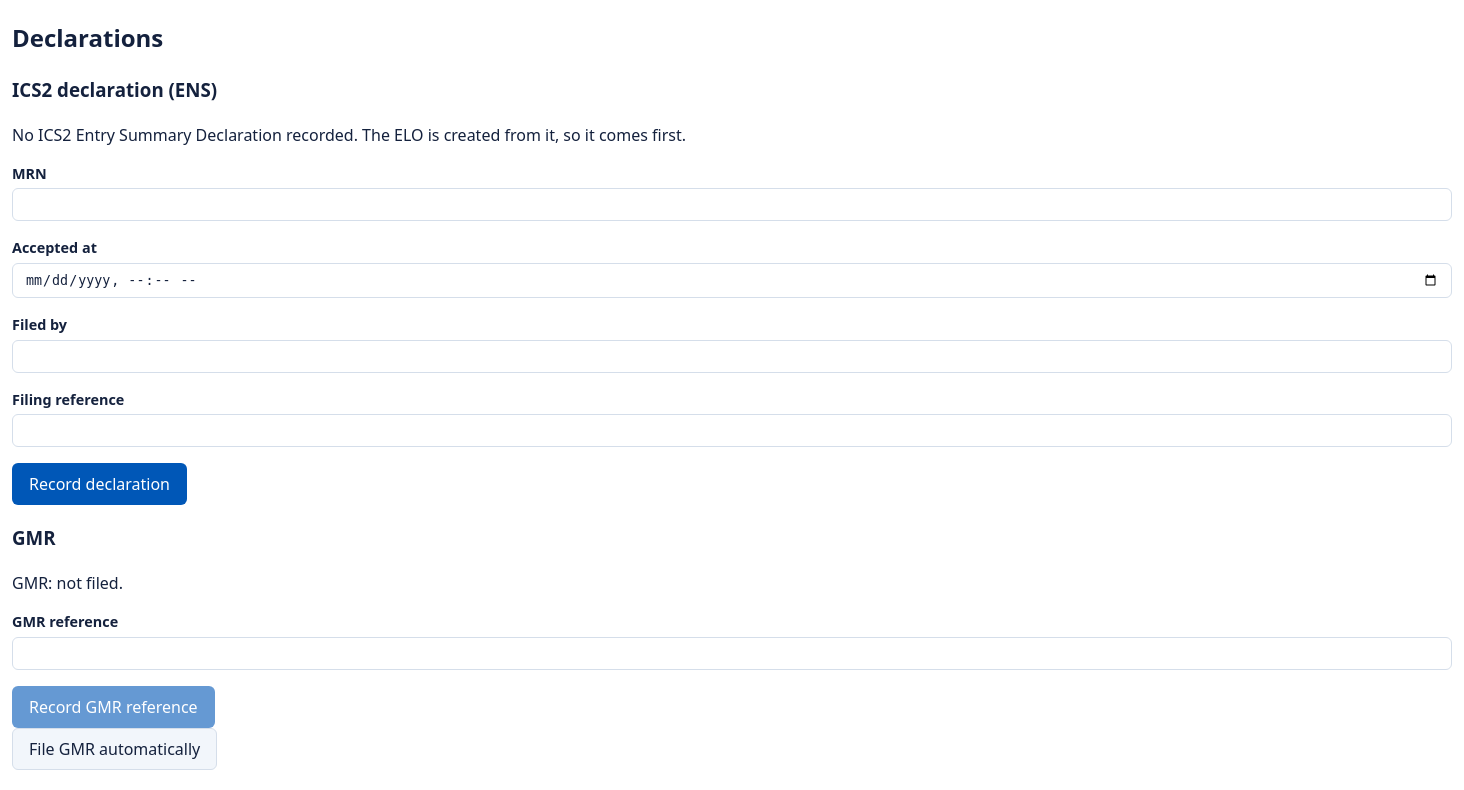
Test: a recorded ENS can be withdrawn, and the form returns
This screenshot has width=1464, height=790.
Step 1. Type "26FR17551780961AT5" into the field labelled "MRN" → (732, 205), box [12, 188, 1452, 221]
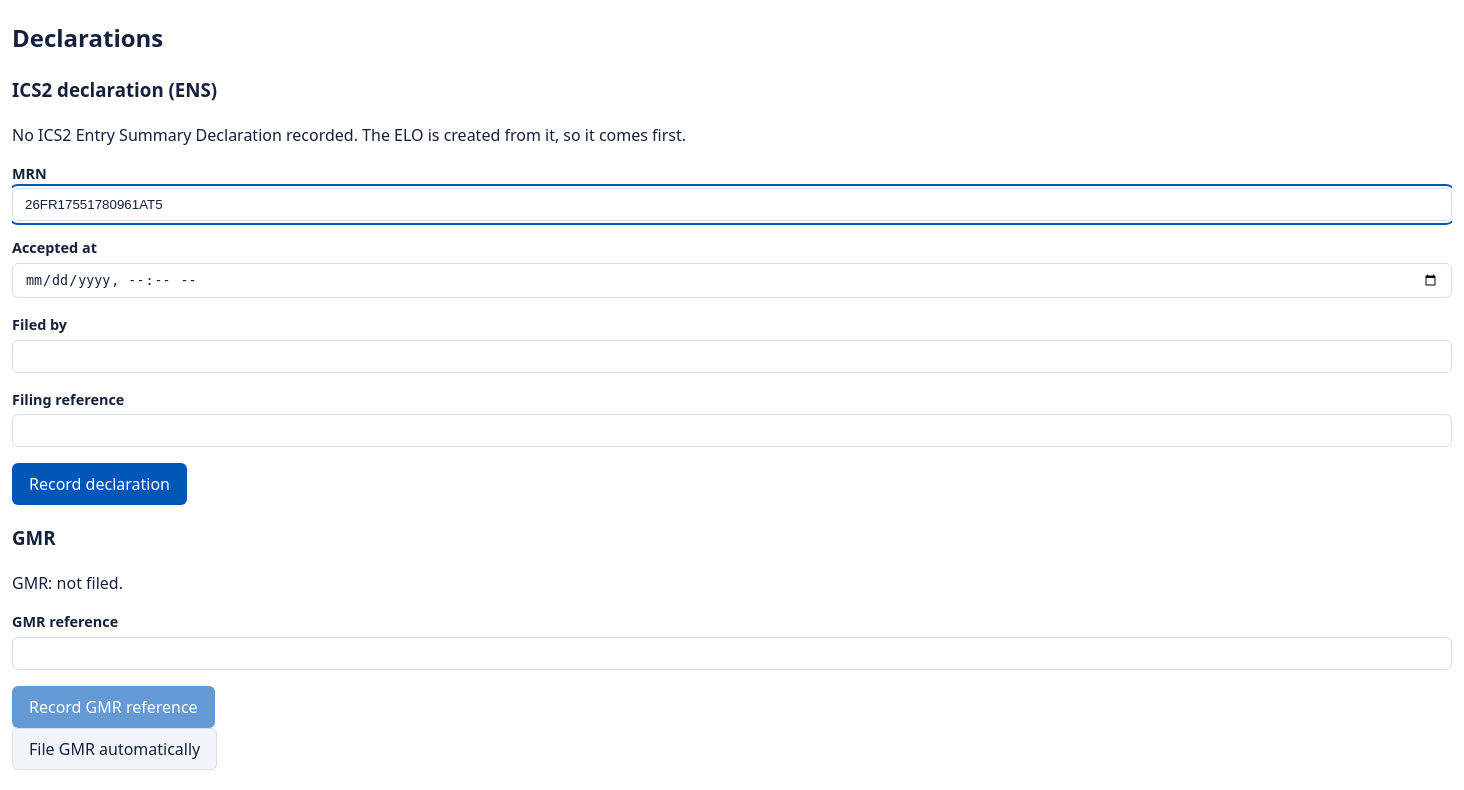
Step 2. Type "2026-08-24T09:30" into the field labelled "Accepted at" → (732, 280), box [12, 263, 1452, 298]
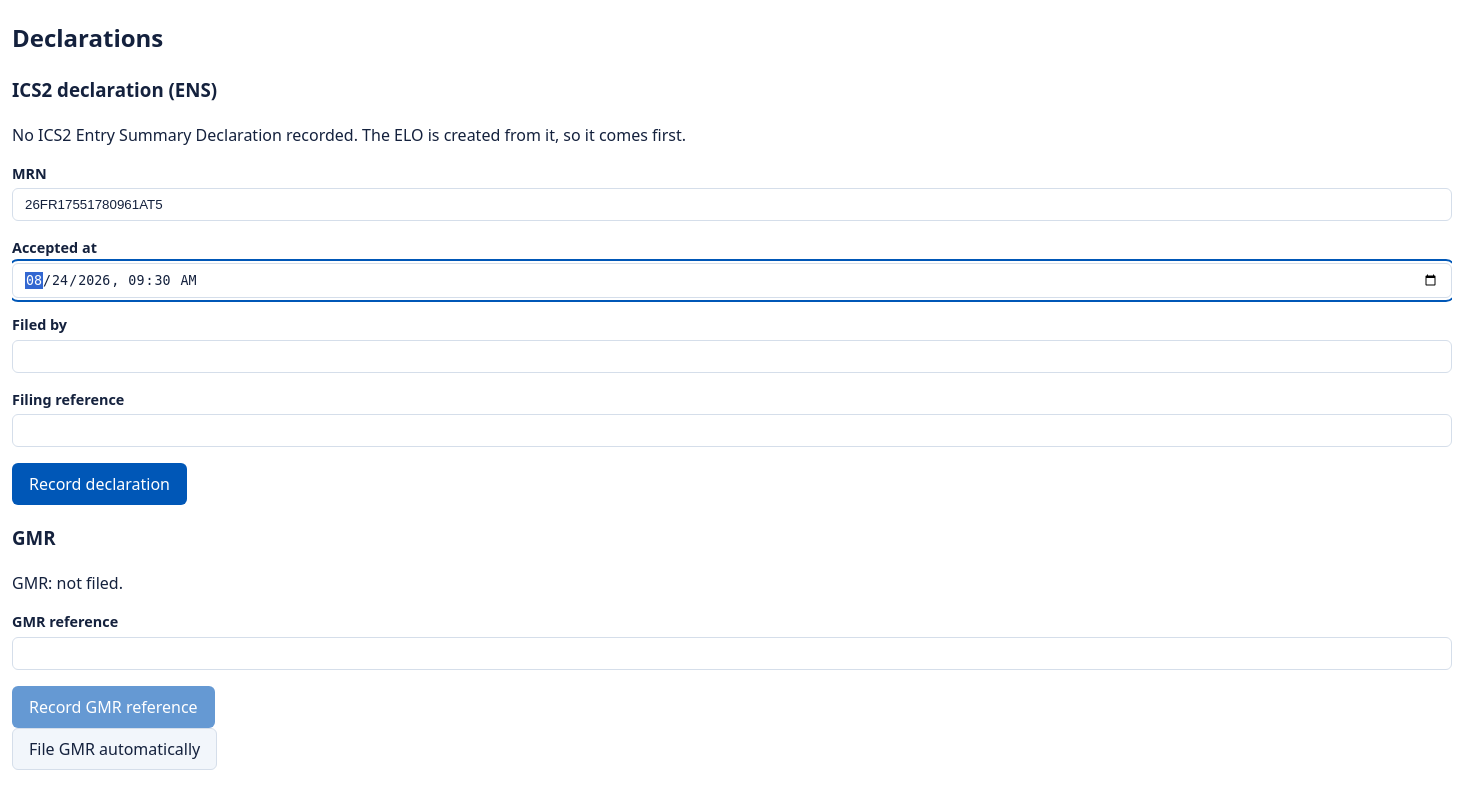
Step 3. Type "groundofficer" into the field labelled "Filed by" → (732, 356), box [12, 340, 1452, 373]
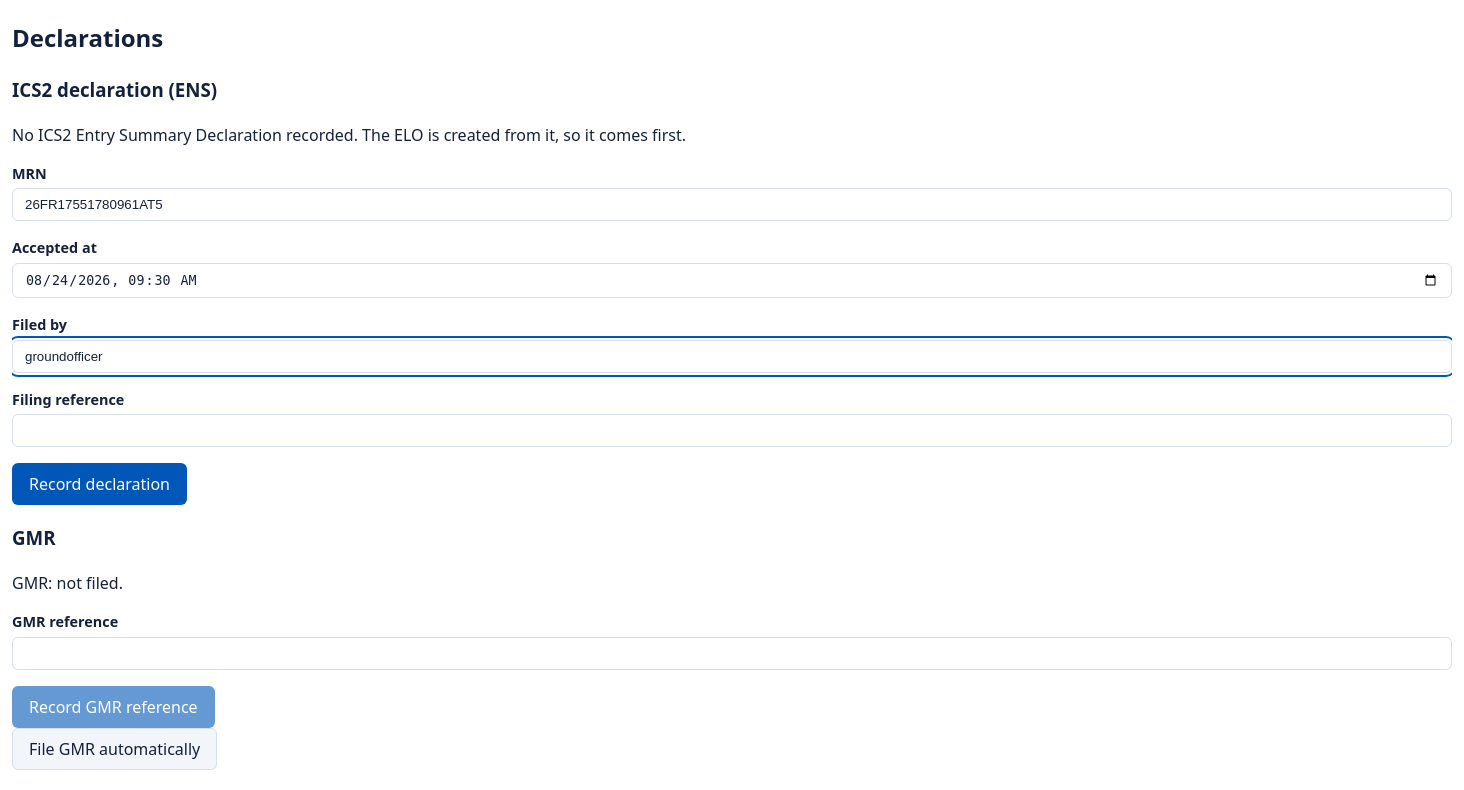
Step 4. Click the button "Record declaration" → (100, 484), box [12, 463, 187, 505]
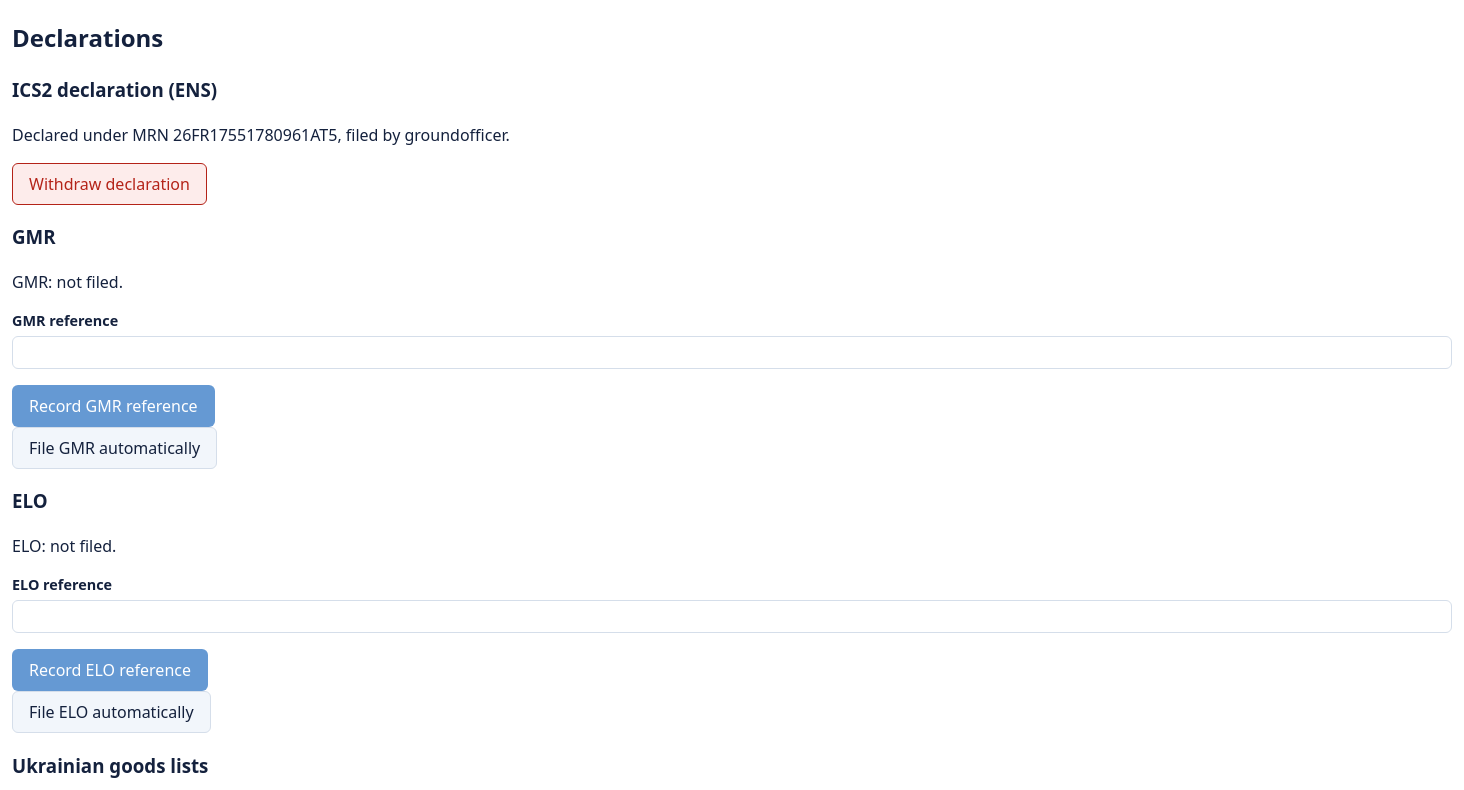
Now the text "Declared under MRN 26FR17551780961AT5, filed by groundofficer." is shown, box [12, 124, 510, 146]
Step 5. Click the button "Withdraw declaration" → (109, 184), box [12, 163, 207, 205]
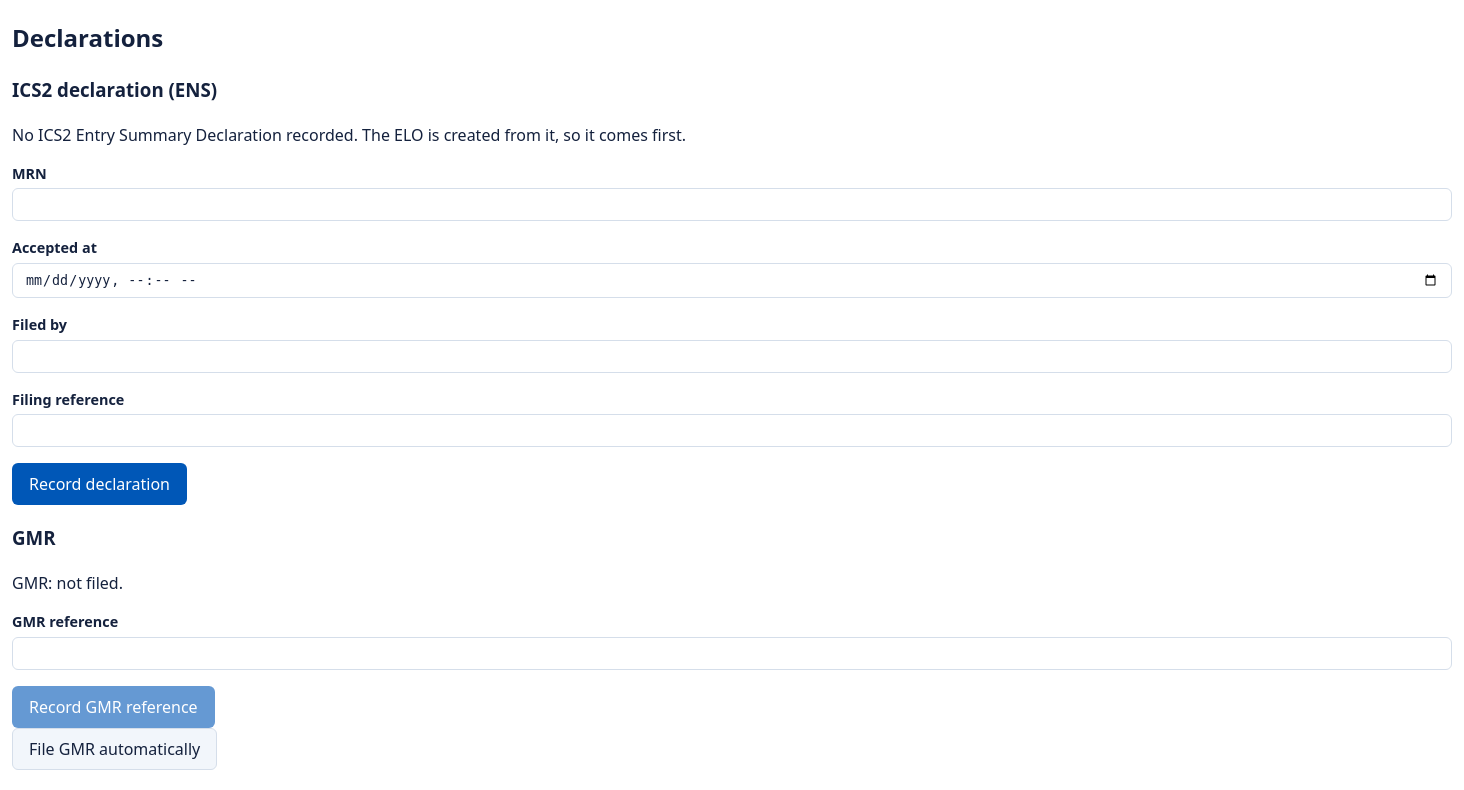
Now the button "Record declaration" is shown, box [12, 463, 187, 505]
